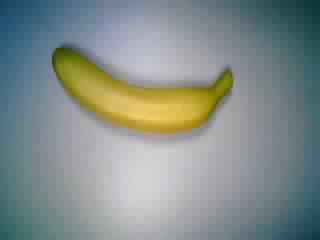banana: (49, 45, 237, 137)
